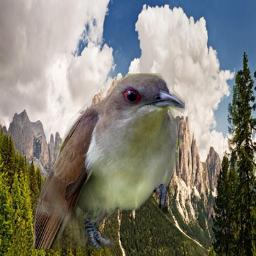Cuckoo: (33, 73, 185, 249)
